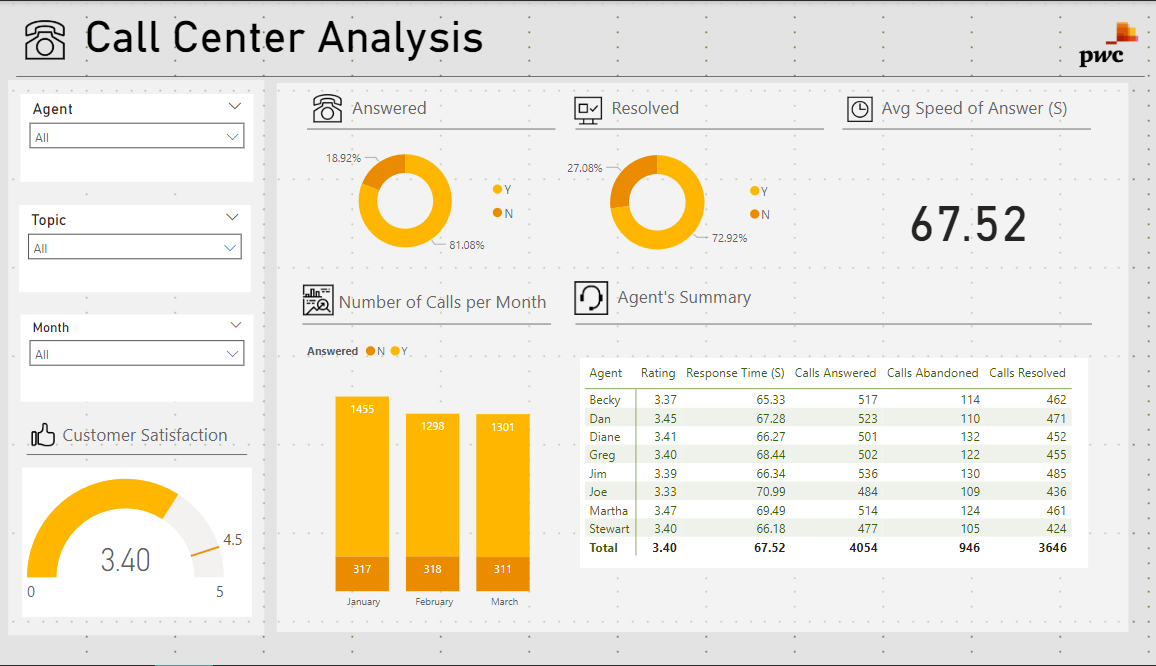

The dashboard page shown, as its layout file describes it:
{"tool":"powerbi","page":{"name":"Call Center Manager","canvas":[1280,720],"ordinal":0},"visuals":[{"type":"textbox","box":[89.7,4.8,1172,75.2],"z":0},{"type":"basicShape","box":[9,61,1244.3,40.1],"z":1000},{"type":"basicShape","box":[8.7,80.1,283.6,614.4],"z":2000},{"type":"basicShape","box":[292.6,83.8,942.7,607.6],"z":3000},{"type":"image","box":[1129,0,151,94.5],"z":4000},{"type":"image","box":[24.1,7.7,53.1,68.5],"z":5000},{"type":"columnChart","fields":{"Series":["tbl_CallCenterData.Answered (Y/N)"],"Category":["tbl_CallCenterData.Date.Variation.Date Hierarchy.Month"],"Y":["tbl_CallCenterData.Call Id"]},"box":[329.5,359.7,284.8,308.3],"z":6000},{"type":"slicer","fields":{"Values":["tbl_CallCenterData.Date.Variation.Date Hierarchy.Month"]},"box":[24.6,339.5,252.4,94.9],"z":7000},{"type":"slicer","fields":{"Values":["tbl_CallCenterData.Agent"]},"box":[24.6,101.6,252.4,95],"z":9000},{"type":"slicer","fields":{"Values":["tbl_CallCenterData.Topic"]},"box":[23.5,220.6,251.3,94.9],"z":10000},{"type":"donutChart","fields":{"Category":["tbl_CallCenterData.Resolved"],"Y":["tbl_CallCenterData.Call Id"]},"box":[611,143,242.4,149.7],"z":11000},{"type":"gauge","fields":{"Y":["tbl_CallCenterData.Satisfaction rating"]},"box":[25.7,506,249.1,162],"z":12000},{"type":"image","box":[31.1,452.4,35.7,35.7],"z":13000},{"type":"textbox","box":[65.9,451.8,208.9,35.8],"z":14000},{"type":"basicShape","box":[21.2,472.5,259.1,40.2],"z":15000},{"type":"donutChart","fields":{"Category":["tbl_CallCenterData.Answered (Y/N)"],"Y":["tbl_CallCenterData.Call Id"]},"box":[341.8,141.8,232.3,149.7],"z":16000},{"type":"textbox","box":[378.6,98.3,172,35.7],"z":17000},{"type":"textbox","box":[660.1,98.3,183.2,35.7],"z":18000},{"type":"card","fields":{"Values":["tbl_CallCenterData.Speed of answer in seconds"]},"box":[916.7,146.8,195.8,135.5],"z":19000},{"type":"basicShape","box":[906.9,118.4,289.3,40.2],"z":20000},{"type":"textbox","box":[953.9,98.3,250.2,35.7],"z":21000},{"type":"basicShape","box":[325,118.4,289,40.2],"z":22000},{"type":"basicShape","box":[616,118.4,289,40.2],"z":23000},{"type":"image","box":[915.9,88.2,38,59.2],"z":24000},{"type":"image","box":[337.3,94.9,41.3,43.6],"z":25000},{"type":"image","box":[619.9,88.2,40.2,61.4],"z":26000},{"type":"textbox","box":[365.2,306.8,250.4,37.6],"z":27000},{"type":"basicShape","box":[320.5,330.6,289.3,40.2],"z":28000},{"type":"textbox","box":[666.4,303.1,250.4,35.8],"z":29000},{"type":"basicShape","box":[616.5,329.5,579.7,40.2],"z":30000},{"type":"image","box":[619.9,294.9,46.9,55.8],"z":31000},{"type":"image","box":[325,290.4,43.6,69.2],"z":32000},{"type":"image","box":[984.5,195.8,278.6,186.4],"z":33000},{"type":"pivotTable","fields":{"Rows":["tbl_CallCenterData.Agent"],"Values":["tbl_CallCenterData.Satisfaction rating","tbl_CallCenterData.Speed of answer in seconds","tbl_CallCenterData.Number of Calls Answered","tbl_CallCenterData.Number of Calls Abandoned","tbl_CallCenterData.Number of Calls Resolved"]},"box":[630.6,387.8,551.5,227.8],"z":34001}]}

Visuals, with their boxes in screenshot pixels (x1, y1, x2, y2), scaled from the page's 1280x720 canvas onto the 1156x666 screenshot:
textbox: box(81, 4, 1139, 74)
basicShape: box(8, 56, 1132, 94)
basicShape: box(8, 74, 264, 642)
basicShape: box(264, 78, 1116, 640)
image: box(1020, 0, 1155, 87)
image: box(22, 7, 70, 70)
columnChart - tbl_CallCenterData.Answered (Y/N) x tbl_CallCenterData.Date.Variation.Date Hierarchy.Month: box(298, 333, 555, 618)
slicer - tbl_CallCenterData.Date.Variation.Date Hierarchy.Month: box(22, 314, 250, 402)
slicer - tbl_CallCenterData.Agent: box(22, 94, 250, 182)
slicer - tbl_CallCenterData.Topic: box(21, 204, 248, 292)
donutChart - tbl_CallCenterData.Resolved x tbl_CallCenterData.Call Id: box(552, 132, 771, 271)
gauge - tbl_CallCenterData.Satisfaction rating: box(23, 468, 248, 618)
image: box(28, 418, 60, 451)
textbox: box(60, 418, 248, 451)
basicShape: box(19, 437, 253, 474)
donutChart - tbl_CallCenterData.Answered (Y/N) x tbl_CallCenterData.Call Id: box(309, 131, 518, 270)
textbox: box(342, 91, 497, 124)
textbox: box(596, 91, 762, 124)
card - tbl_CallCenterData.Speed of answer in seconds: box(828, 136, 1005, 261)
basicShape: box(819, 110, 1080, 147)
textbox: box(861, 91, 1087, 124)
basicShape: box(294, 110, 555, 147)
basicShape: box(556, 110, 817, 147)
image: box(827, 82, 861, 136)
image: box(305, 88, 342, 128)
image: box(560, 82, 596, 138)
textbox: box(330, 284, 556, 319)
basicShape: box(289, 306, 551, 343)
textbox: box(602, 280, 828, 313)
basicShape: box(557, 305, 1080, 342)
image: box(560, 273, 602, 324)
image: box(294, 269, 333, 333)
image: box(889, 181, 1141, 354)
pivotTable - tbl_CallCenterData.Agent x tbl_CallCenterData.Satisfaction rating: box(570, 359, 1068, 569)
